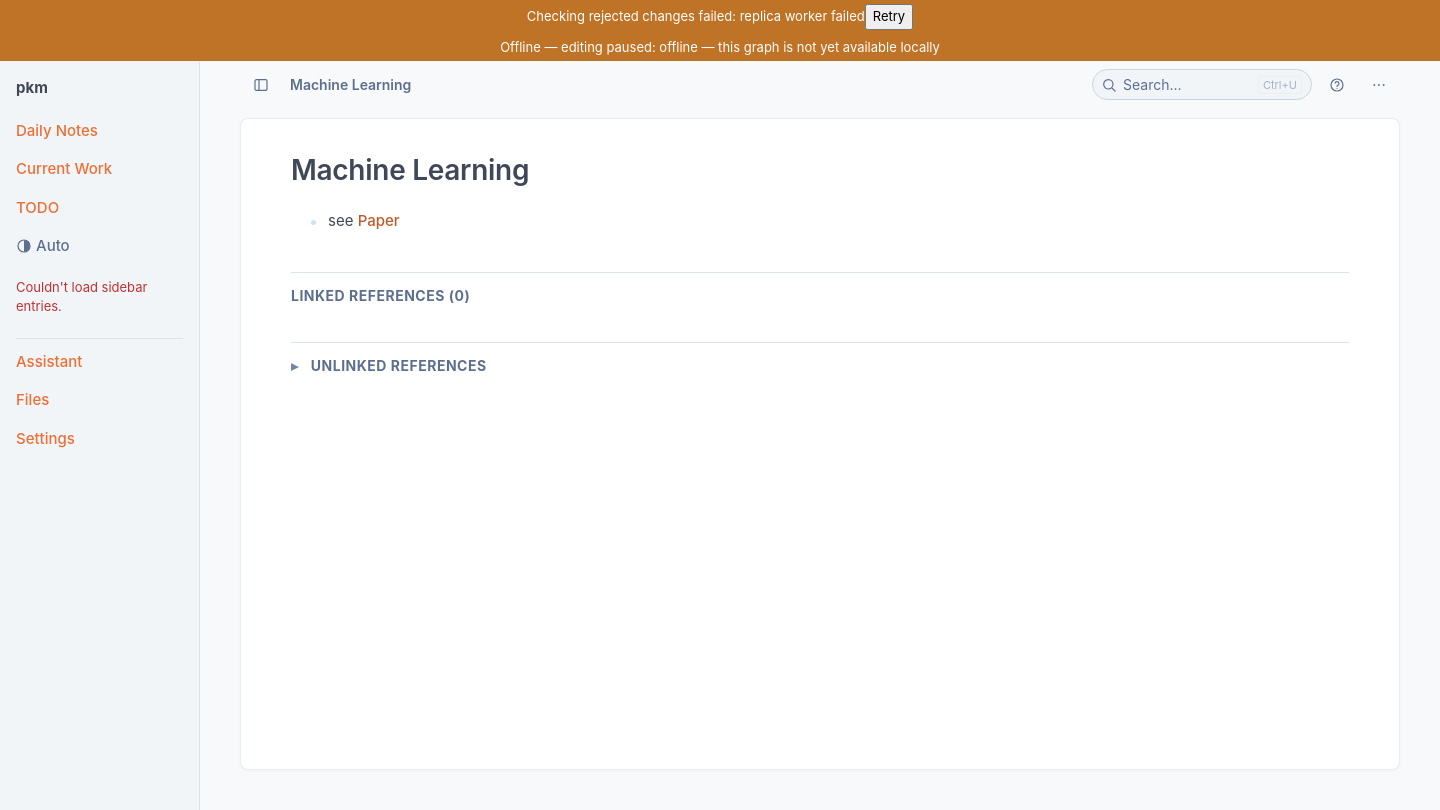
Test: opening a page in the sidebar drops the no-sidebar class from .app
Click the link "Paper" at (379, 220), box x1=358 y1=211 x2=400 y2=230
(page scrolled)
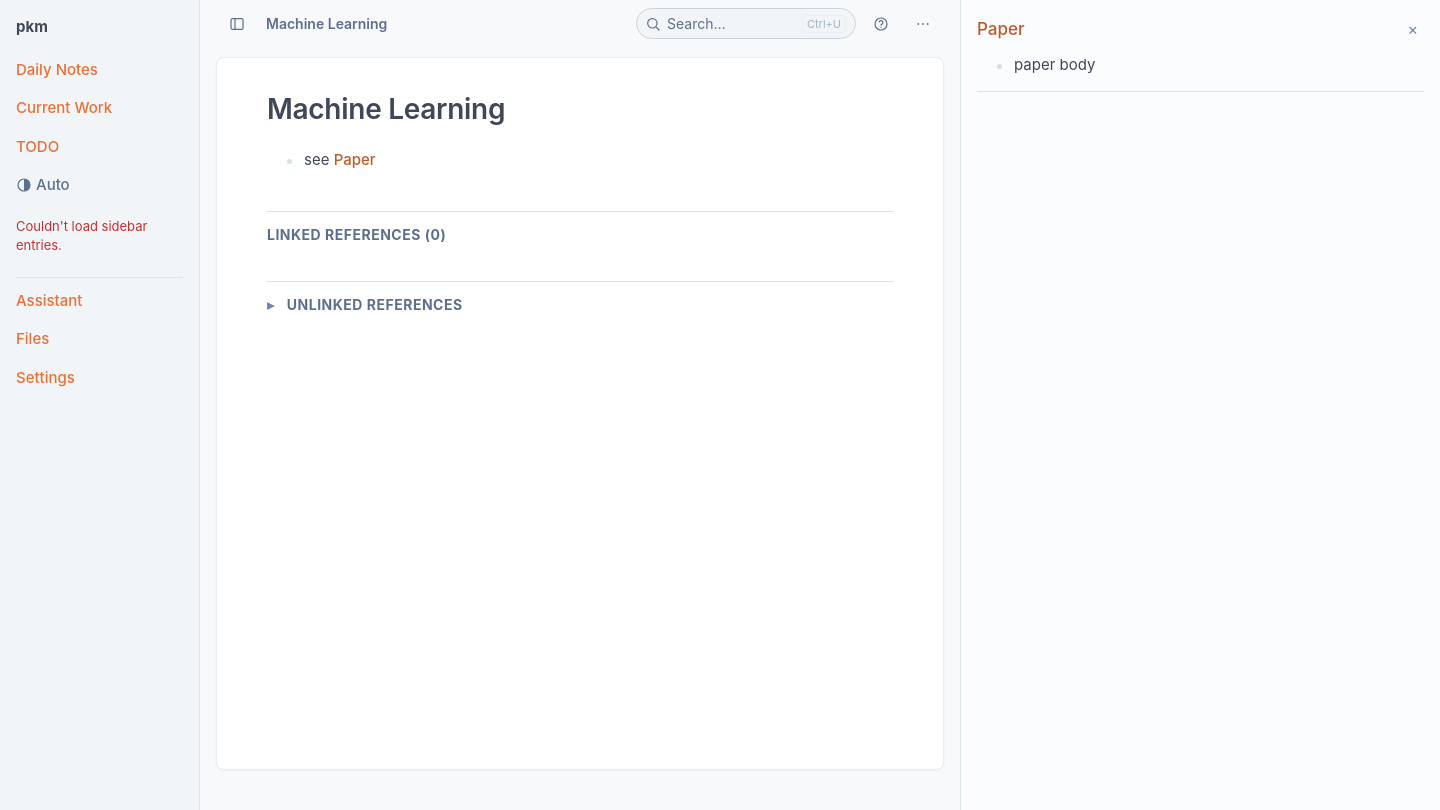
Check: the text "paper body" is shown, box x1=1014 y1=54 x2=1095 y2=74
